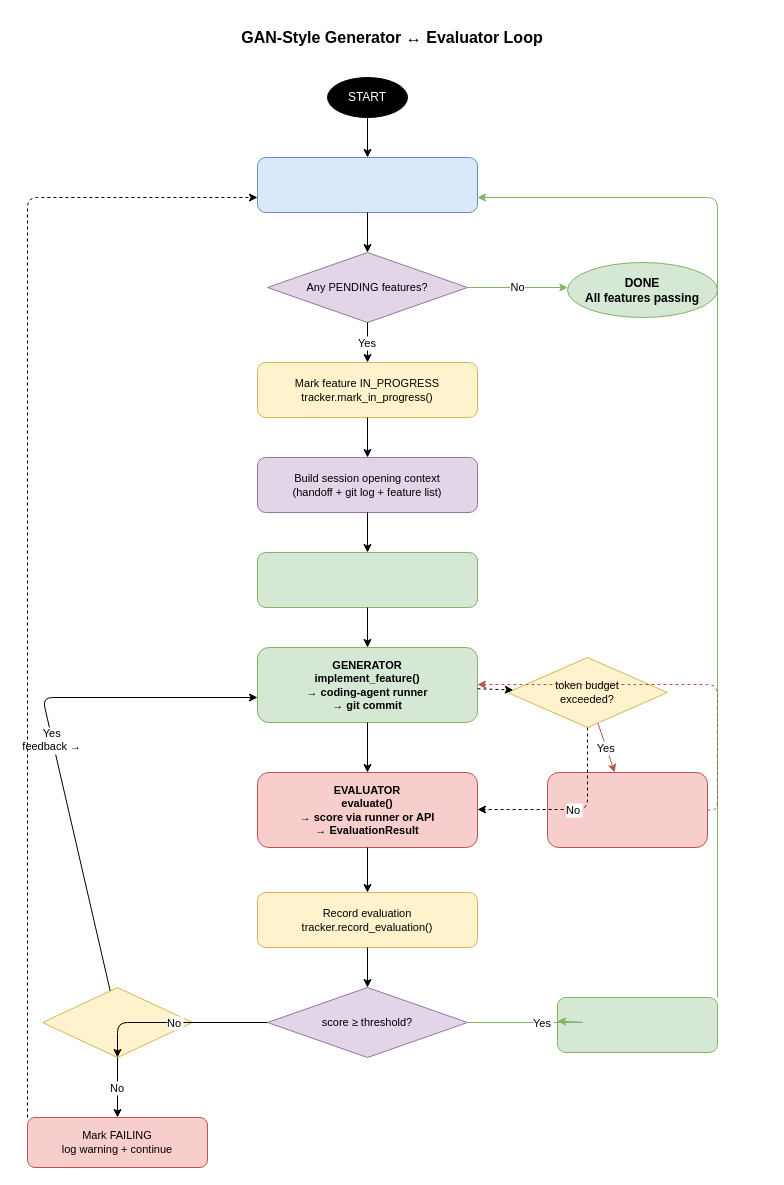
The diagram is 784 pixels wide and 1185 high, and some of its shapes have lost their labels. The shapes that lost their labels are listed below. From the top down, each one's centre as x and y in pixels, then its label:
pixel 367 184: Select next PENDING feature (lowest priority number)
pixel 367 580: Negotiate sprint contract (acceptance criteria + out-of-scope)
pixel 627 810: Context Reset build HandoffDocument reset token counter new session preamble
pixel 117 1022: iterations remaining?
pixel 637 1024: Mark PASSING → next feature
